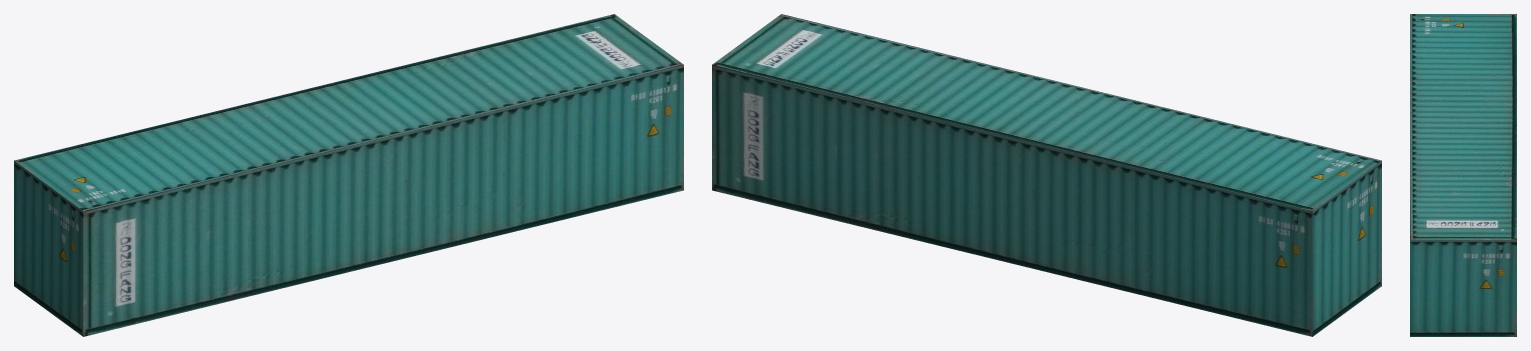
Rendered from CtnGreen.FBX.
3 views of the same model, side by side, from view 1: azimuth 30°, elevation 25°; view 2: azimuth 150°, elevation 25°; view 3: azimuth 270°, elevation 25° (orthographic). The views are drawn at different scales.
Parts seen in each view (by area): view 1: CtnGreen; view 2: CtnGreen; view 3: CtnGreen.
Boxes of the visible parts, bbox=[...] form: CtnGreen: bbox=[14, 14, 683, 336]; CtnGreen: bbox=[712, 14, 1381, 336]; CtnGreen: bbox=[1410, 14, 1516, 336].
Bounding box in the file's own units: 1219 × 244 × 244.
